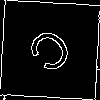C: (24, 24, 82, 83)
